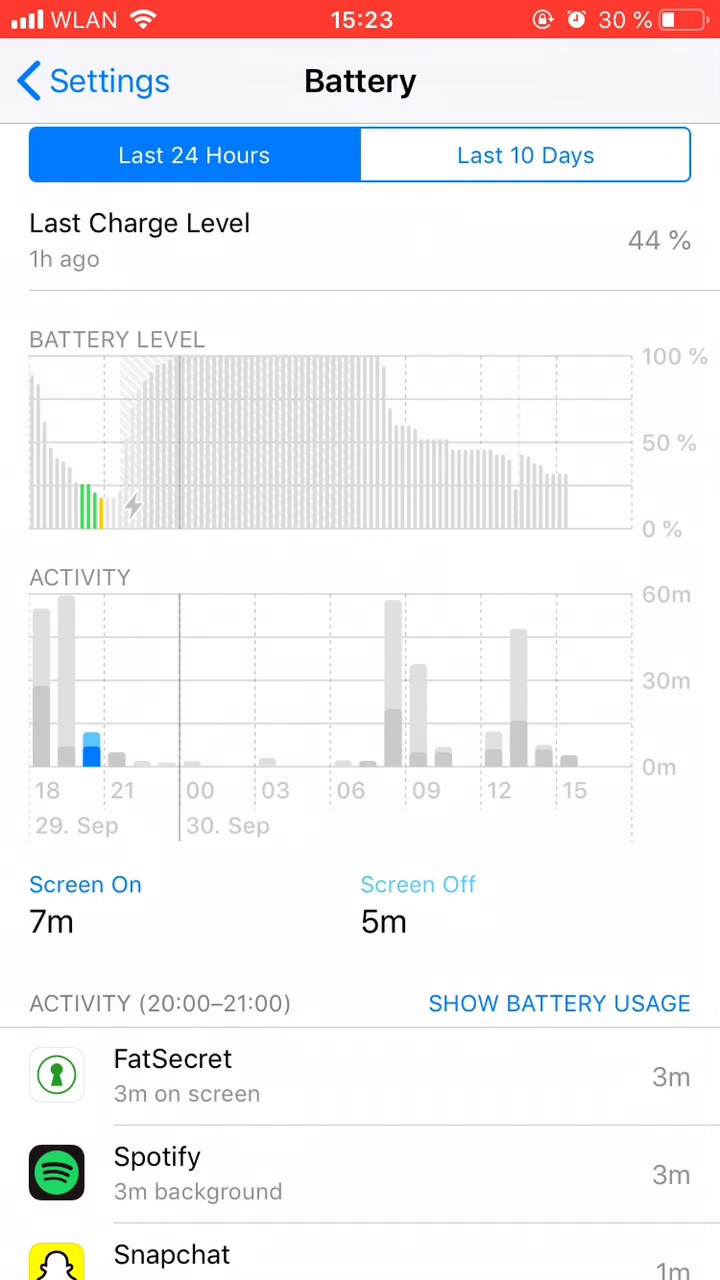activity: (19, 980, 312, 1022)
app: (21, 1040, 707, 1113), (26, 1143, 700, 1208)
